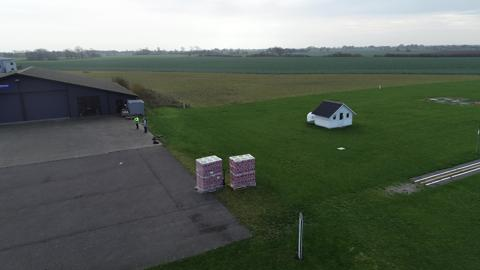RockwoolPallet: (229, 153, 255, 187)
